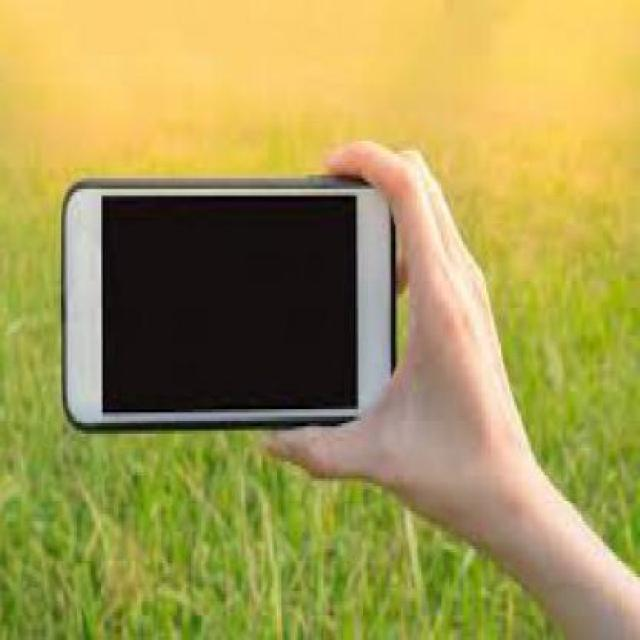phone: (59, 178, 398, 427)
